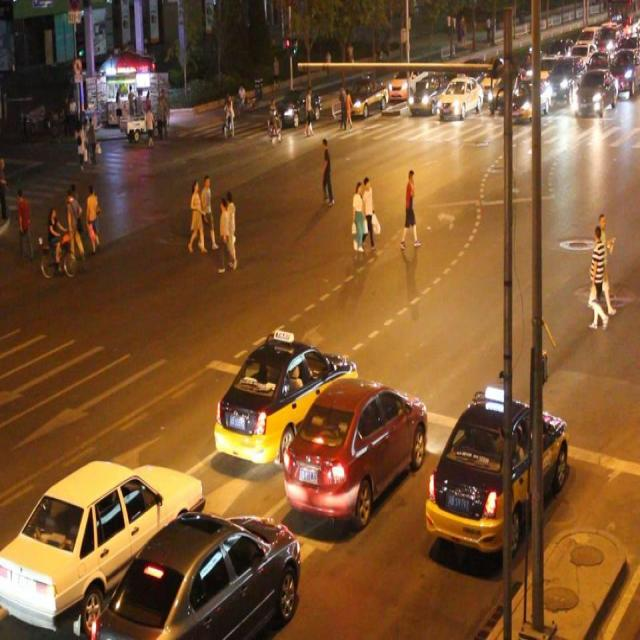car: (1, 420, 199, 615), (96, 512, 304, 640), (283, 381, 425, 532), (424, 399, 567, 548), (212, 326, 344, 465), (435, 70, 482, 124), (577, 74, 618, 116), (409, 69, 444, 117), (350, 76, 388, 120), (511, 78, 548, 121), (613, 46, 640, 100), (551, 56, 580, 102), (389, 64, 416, 100)
